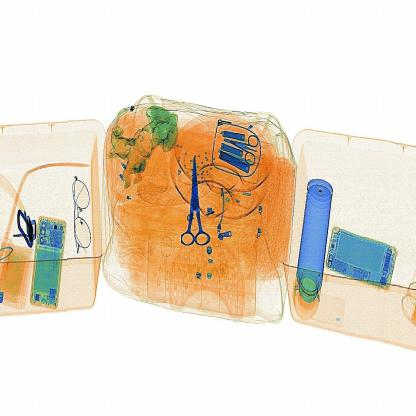gun: (176, 146, 212, 246)
